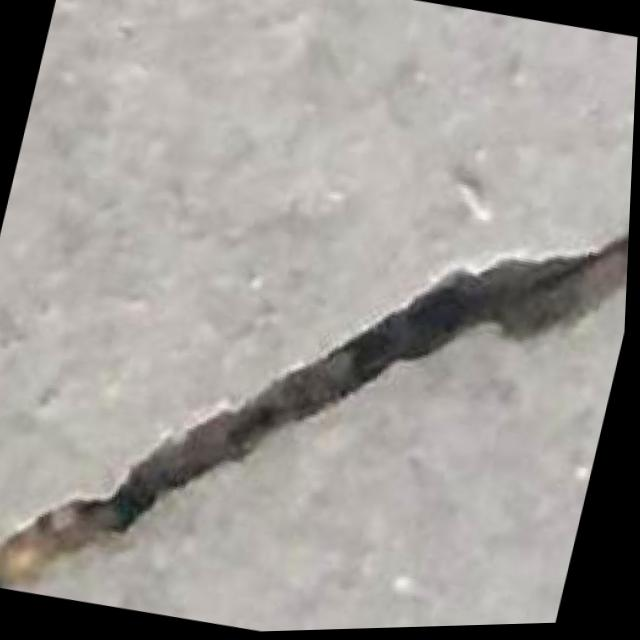Crack: (0, 114, 635, 640)
